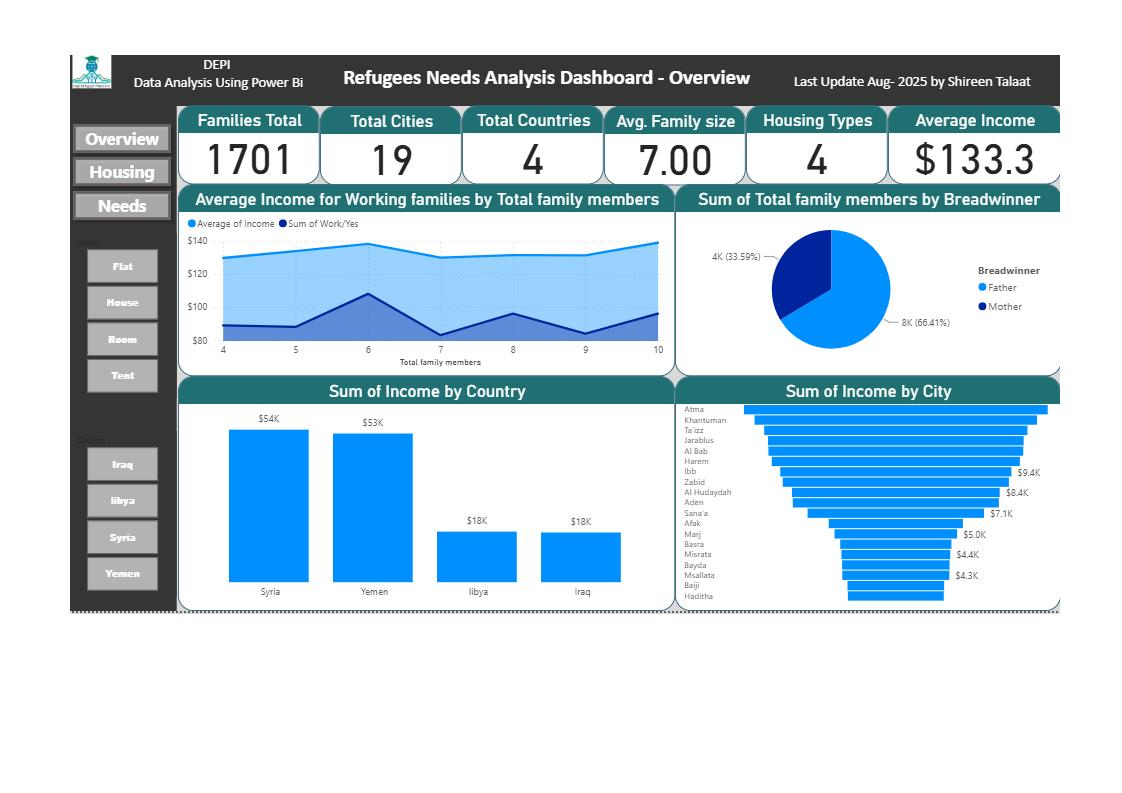

Layout of this report page (visuals, bound fields, positions):
{"tool":"powerbi","page":{"name":"Overview","canvas":[1280,720],"ordinal":0},"visuals":[{"type":"shape","box":[0,70.7,141.4,649],"z":0},{"type":"shape","box":[0,0,1280,70.7],"z":1000},{"type":"actionButton","box":[0,86.1,141.4,52.7],"z":2000},{"type":"image","box":[0,0,64.3,52.7],"z":3000},{"type":"textbox","box":[64.3,0,260.9,61.7],"z":4000},{"type":"actionButton","box":[0,128.5,141.4,52.7],"z":5000},{"type":"actionButton","box":[0,172.2,141.4,52.7],"z":6000},{"type":"textbox","box":[343.1,12.9,546.2,47.6],"z":7000},{"type":"textbox","box":[929.2,21.8,332.9,34.7],"z":8000},{"type":"card","title":"Families Total","fields":{"Values":["CountNonNull(Needs.Name)"]},"box":[142.7,69.4,182.5,101.5],"z":9000},{"type":"card","title":"Average Income","fields":{"Values":["Avg(Needs.Income)"]},"box":[1055.1,69.4,223,101.5],"z":10000},{"type":"card","title":"Total Countries","fields":{"Values":["Count(Needs.Country)"]},"box":[507.6,69.4,182.5,101.5],"z":11000},{"type":"card","title":"Avg. Family size","fields":{"Values":["Avg(Needs.Total family members)"]},"box":[690.1,70.7,182.5,101.5],"z":12000},{"type":"card","title":"Total Cities","fields":{"Values":["Count(Needs.City)"]},"box":[325.1,70.7,182.5,101.5],"z":13000},{"type":"card","title":"Housing Types","fields":{"Values":["Count(Needs.House)"]},"box":[872.6,69.4,182.5,101.5],"z":14000},{"type":"areaChart","title":"Average Income for Working families by Total family members","fields":{"Category":["Needs.Total family members"],"Y":["Avg(Needs.Income)","Sum(Needs.Work/Yes)"]},"box":[142.7,170.9,638.7,246.7],"z":15000},{"type":"pieChart","fields":{"Category":["Needs.Breadwinner"],"Y":["Sum(Needs.Total family members)"]},"box":[781.4,170.9,497.3,246.7],"z":16000},{"type":"clusteredColumnChart","fields":{"Category":["Needs.Country"],"Y":["Sum(Needs.Income)"]},"box":[143,418,639,302],"z":17000},{"type":"funnel","fields":{"Category":["Needs.City"],"Y":["Sum(Needs.Income)"]},"box":[782,418,496,302],"z":18000},{"type":"slicer","fields":{"Values":["Needs.House"]},"box":[0,233.9,141.4,212],"z":19000},{"type":"slicer","fields":{"Values":["Needs.Country"]},"box":[0,488.4,141.4,212],"z":20000}]}

Visuals, with their boxes on the page's 1280x720 design canvas (x1, y1, x2, y2). These are canvas units, not pixel positions in the 1122x793 screenshot, which may show the page scaled, cropped or inside an application window:
shape: <box>0,71,141,720</box>
shape: <box>0,0,1280,71</box>
actionButton: <box>0,86,141,139</box>
image: <box>0,0,64,53</box>
textbox: <box>64,0,325,62</box>
actionButton: <box>0,128,141,181</box>
actionButton: <box>0,172,141,225</box>
textbox: <box>343,13,889,60</box>
textbox: <box>929,22,1262,56</box>
"Families Total" card: <box>143,69,325,171</box>
"Average Income" card: <box>1055,69,1278,171</box>
"Total Countries" card: <box>508,69,690,171</box>
"Avg. Family size" card: <box>690,71,873,172</box>
"Total Cities" card: <box>325,71,508,172</box>
"Housing Types" card: <box>873,69,1055,171</box>
"Average Income for Working families by Total family members" areaChart: <box>143,171,781,418</box>
pieChart - Needs.Breadwinner x Sum(Needs.Total family members): <box>781,171,1279,418</box>
clusteredColumnChart - Needs.Country x Sum(Needs.Income): <box>143,418,782,720</box>
funnel - Needs.City x Sum(Needs.Income): <box>782,418,1278,720</box>
slicer - Needs.House: <box>0,234,141,446</box>
slicer - Needs.Country: <box>0,488,141,700</box>
